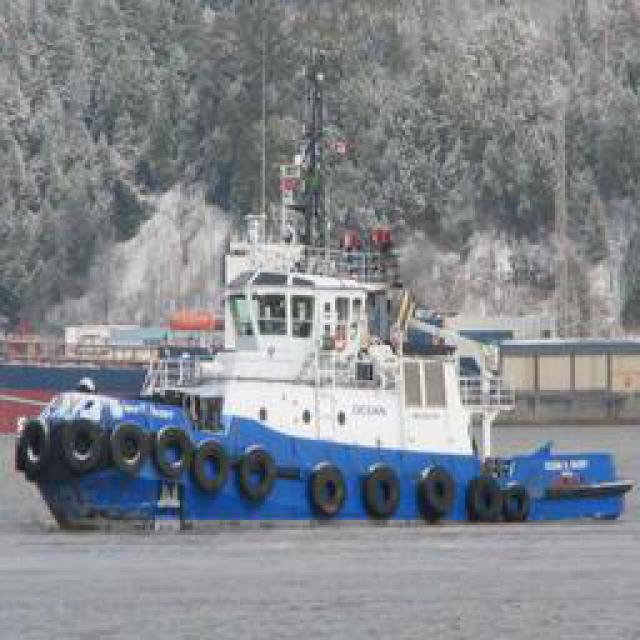Ship: (92, 185, 555, 518)
